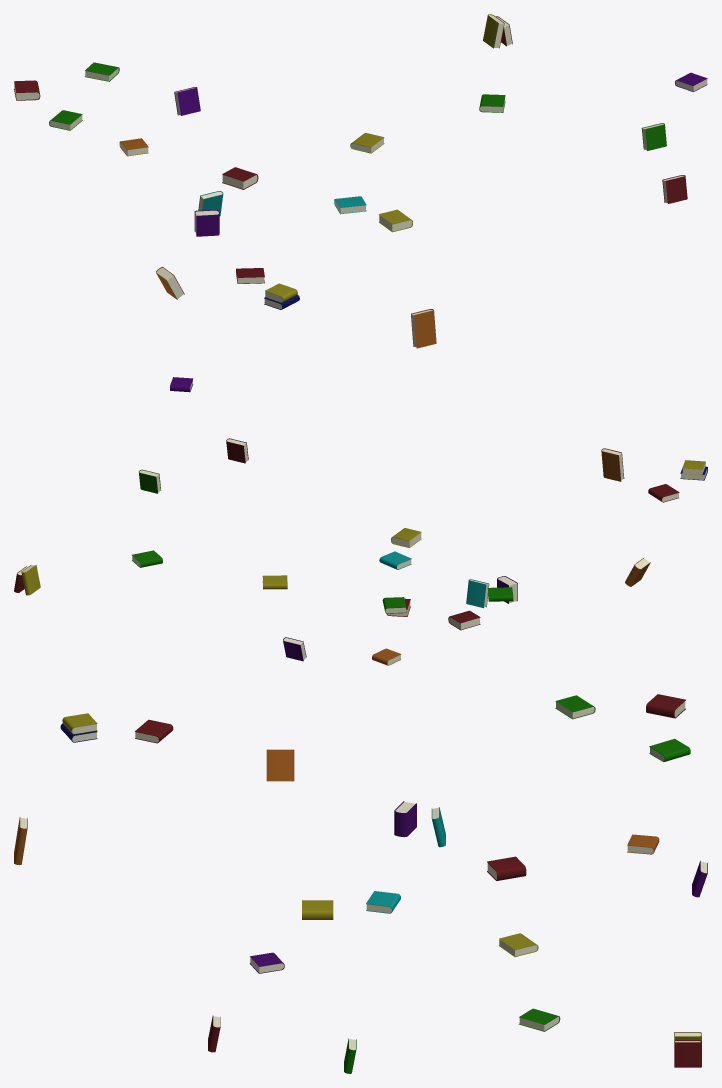
The model's file is books_05.glb.
The picture shows the model from 3 angles, top to bottom: view 1: azimuth 30°, elevation 25°; view 2: azimuth 150°, elevation 25°; view 3: azimuth 270°, elevation 25°; orthographic projection. The views are drawn at different scales.
Visible parts, largest first — view 1: Cube.493, Cube.492, Cube.505, Cube.502, Cube.489, Cube.504, Cube.490, Cube.498; view 2: Cube.493, Cube.503, Cube.502; view 3: Cube.488, Cube.497, Cube.504, Cube.330, Cube.492, Cube.496, Cube.499, Cube.506, Cube.494, Cube.500, Cube.490, Cube.491.
Part boxes in pixels (x1,y1,x2,y2): Cube.493: (411,309,436,348); Cube.492: (194,209,219,236); Cube.505: (174,87,200,115); Cube.502: (662,175,687,203); Cube.489: (641,123,666,150); Cube.504: (222,167,258,189); Cube.490: (379,209,412,232); Cube.498: (483,14,504,48); Cube.493: (601,448,624,481); Cube.503: (466,579,489,608); Cube.502: (226,438,248,463); Cube.488: (266,749,294,781); Cube.497: (674,1040,701,1067); Cube.504: (487,856,526,880); Cube.330: (646,694,685,718); Cube.492: (394,801,416,837); Cube.496: (518,1008,560,1031); Cube.499: (649,738,690,761); Cube.506: (555,695,595,719); Cube.494: (499,933,538,956); Cube.500: (135,719,173,743); Cube.490: (302,900,333,919); Cube.491: (366,891,400,913).
Bounding box in the file's own units: 3.42 × 0.5838 × 3.33.
